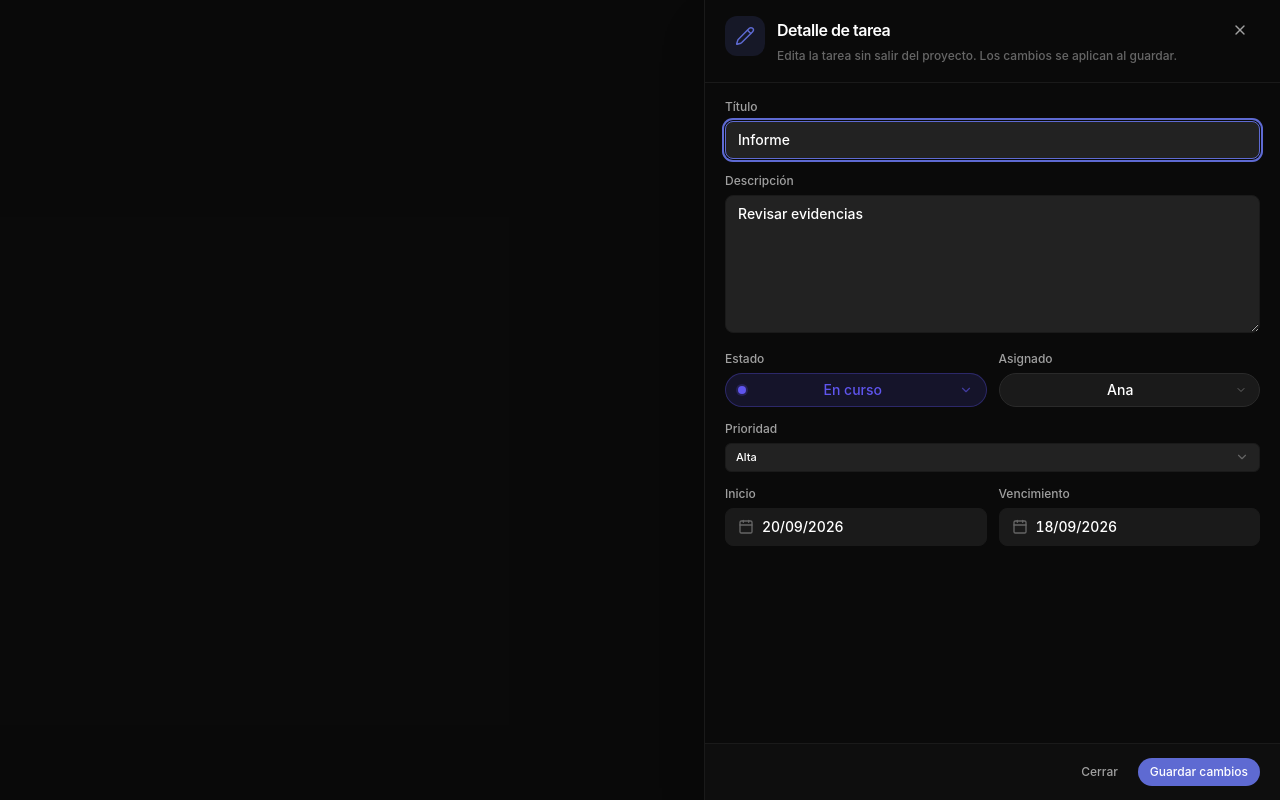
Test: task detail panel › retains date validation in the panel
Click the button "Guardar cambios".
click(1199, 772)  # box [1138,758,1260,786]
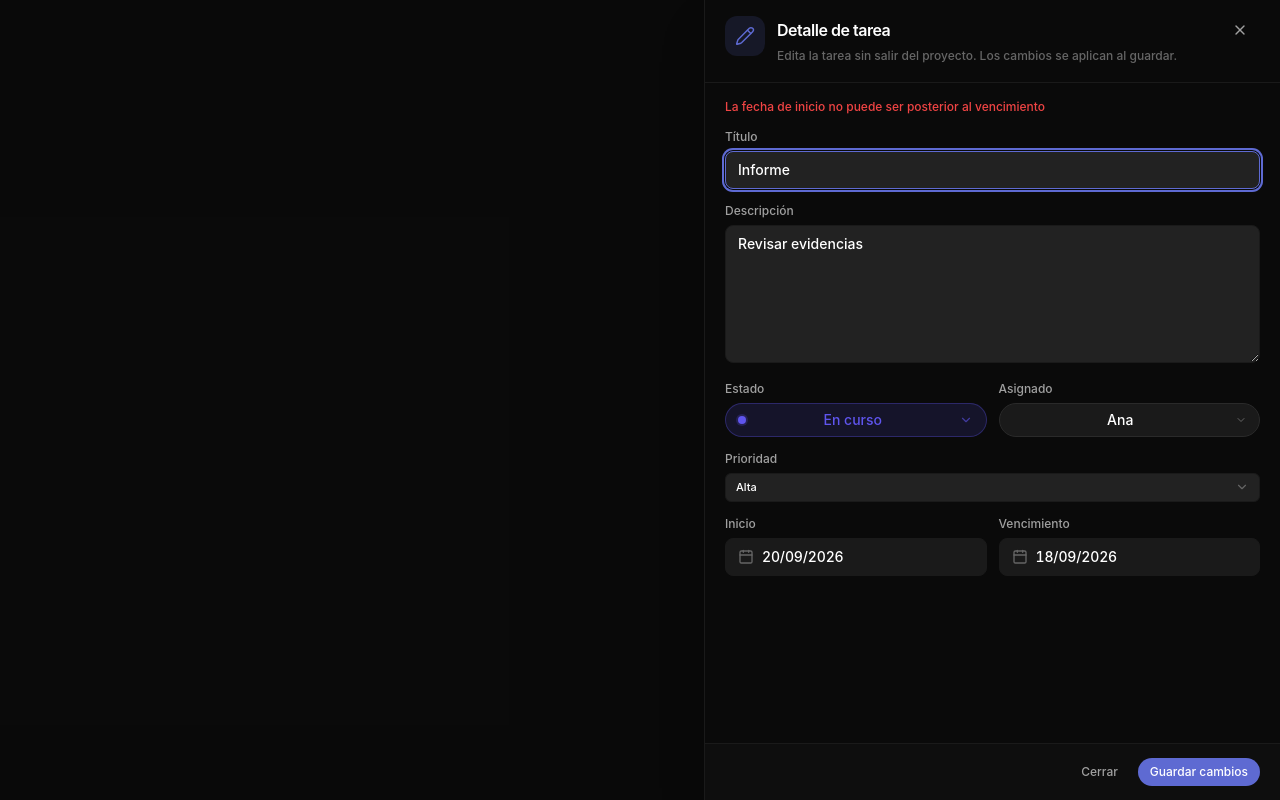
Check: the message reads "La fecha de inicio no puede ser posterior al vencimiento", box [725,98,1045,114]
